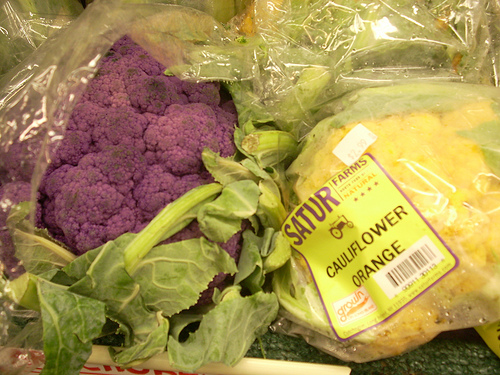cauliflower: (0, 7, 291, 373), (272, 78, 499, 363)
